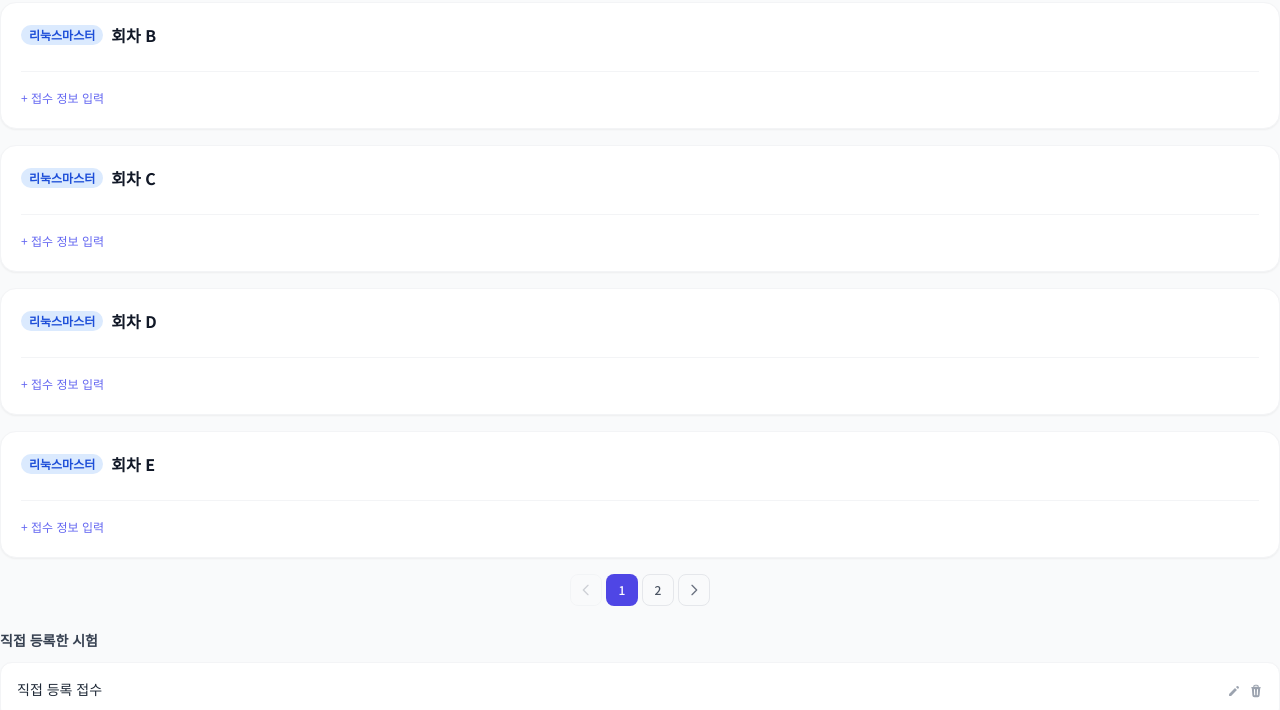
Scenario: 시험 정보 페이지네이션 › 회차 묶음 다섯 개씩 이동하며 묶음과 별도 직접 등록 영역을 보존한다
The image size is (1280, 710).
(page scrolled)
Expected: the heading "회차 E" is shown, x1=111 y1=452 x2=155 y2=476
Expected: the heading "회차 F" is not shown
Click the button named "다음 페이지" at (694, 590), box x1=678 y1=574 x2=710 y2=606
(page scrolled)
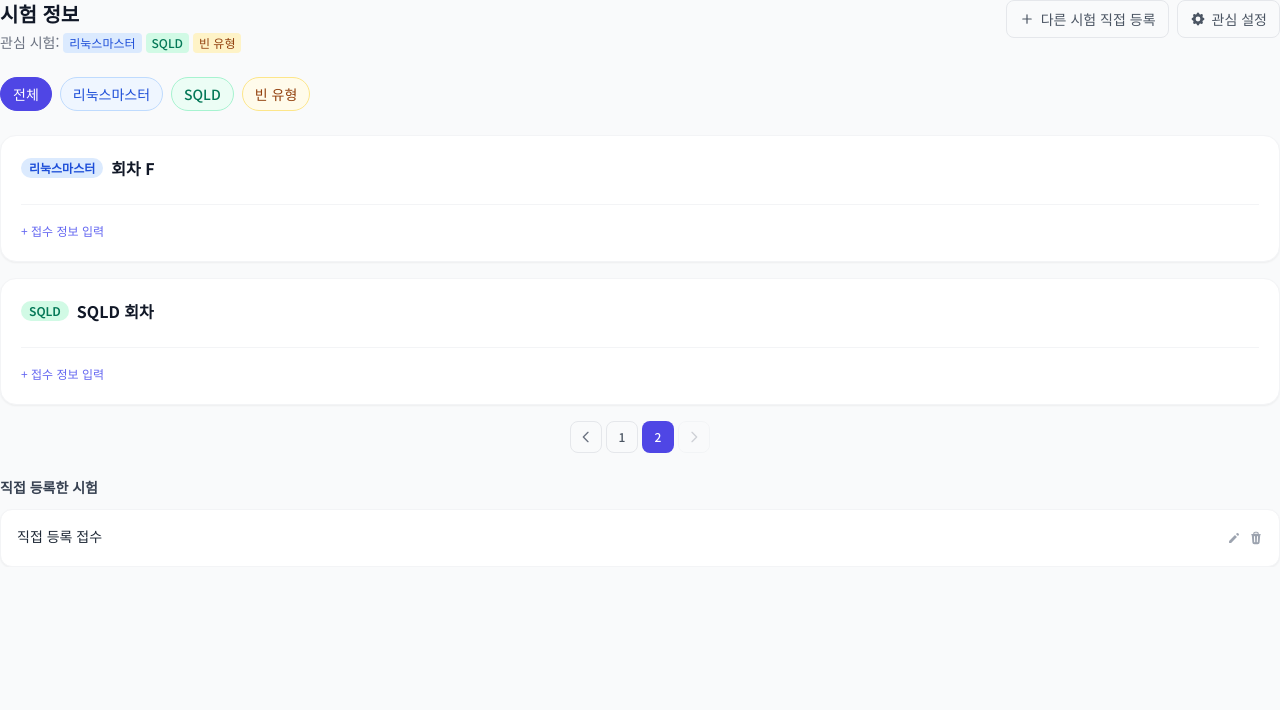
Expected: the text "직접 등록 접수" is shown, x1=17 y1=526 x2=102 y2=546
Expected: the heading "회차 F" is shown, x1=111 y1=156 x2=155 y2=180
Expected: the heading "SQLD 회차" is shown, x1=77 y1=299 x2=154 y2=323
Click the button named "이전 페이지" at (586, 437), box x1=570 y1=421 x2=602 y2=453
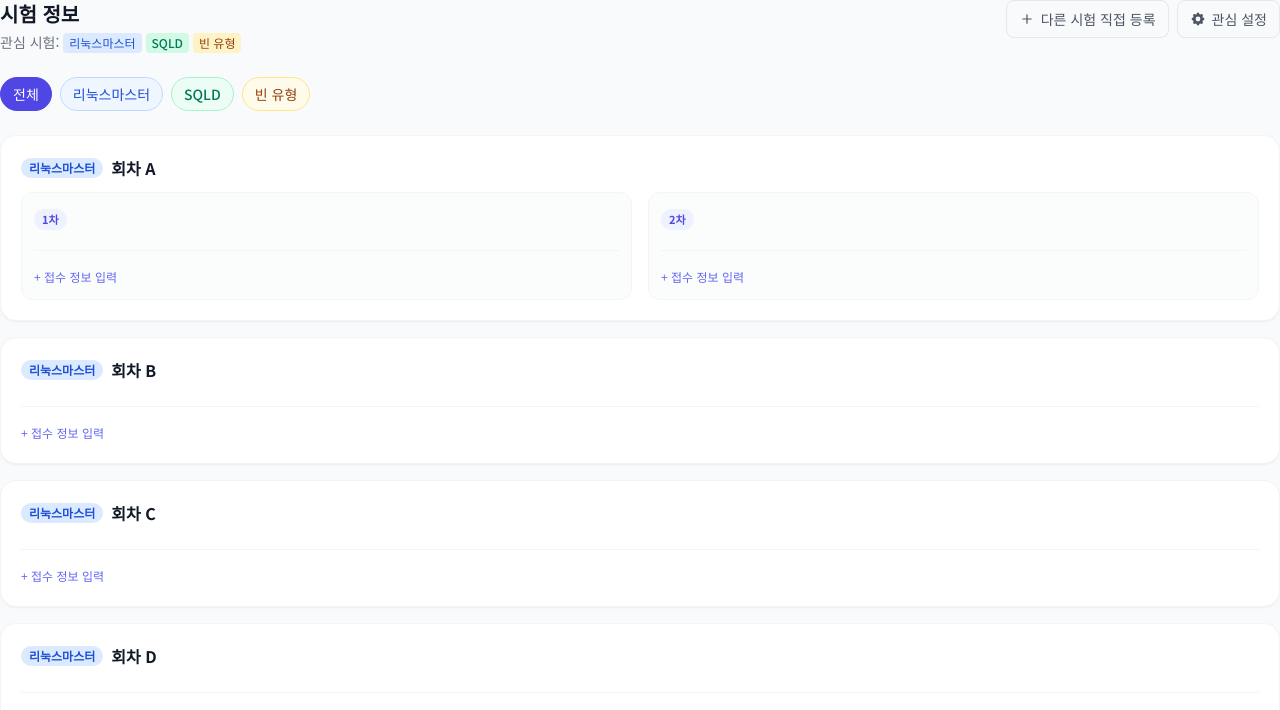
Expected: the heading "회차 A" is shown, x1=111 y1=156 x2=156 y2=180
